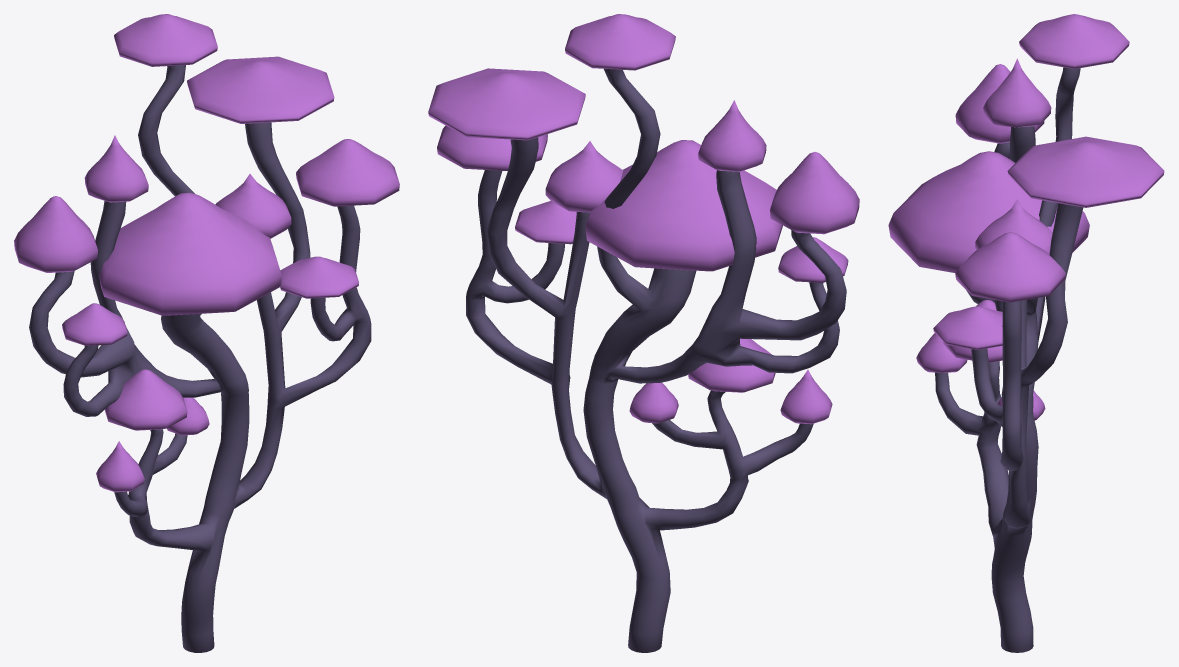
File: Hongos.fbx
The picture shows the model from 3 angles, left to right: view 1: azimuth 30°, elevation 25°; view 2: azimuth 150°, elevation 25°; view 3: azimuth 270°, elevation 25°; orthographic projection. The views are drawn at different scales.
Parts seen in each view (by area): view 1: pCylinder10, pCone12, pCone2, pCone4, pCone5, pCone1, pCone9, pCone6, pCone3, pCone8, pCone7, pCone10 (+1 smaller); view 2: pCylinder10, pCone12, pCone2, pCone5, pCone1, pCone8, pCone6, pCone4, pCone9, pCone3, pCone10, pCone11 (+1 smaller); view 3: pCylinder10, pCone12, pCone2, pCone4, pCone1, pCone6, pCone3, pCone5, pCone8, pCone10, pCone9.
Part boxes in pixels (x1,y1,x2,y2): pCylinder10: (29, 65, 371, 652); pCone12: (99, 192, 281, 315); pCone2: (187, 56, 334, 123); pCone4: (296, 139, 399, 206); pCone5: (14, 196, 97, 272); pCone1: (114, 14, 217, 66); pCone9: (104, 369, 187, 430); pCone6: (84, 135, 148, 202); pCone3: (280, 256, 358, 298); pCone8: (215, 174, 291, 238); pCone7: (62, 303, 127, 345); pCone10: (96, 441, 144, 492); pCylinder10: (466, 69, 846, 652); pCone12: (585, 140, 782, 271); pCone2: (428, 68, 585, 140); pCone5: (770, 152, 859, 234); pCone1: (565, 14, 675, 70); pCone8: (545, 141, 623, 212); pCone6: (698, 100, 766, 171); pCone4: (437, 125, 547, 170); pCone9: (688, 338, 775, 392); pCone3: (515, 201, 576, 244); pCone10: (780, 369, 832, 424); pCone11: (629, 382, 678, 423); pCylinder10: (935, 67, 1083, 652); pCone12: (888, 151, 1089, 272); pCone2: (1007, 136, 1164, 207); pCone4: (955, 232, 1065, 302); pCone1: (1019, 14, 1129, 69); pCone6: (983, 58, 1051, 127); pCone3: (933, 306, 1002, 349); pCone5: (955, 64, 1044, 143); pCone8: (975, 199, 1052, 254); pCone10: (916, 333, 967, 372); pCone9: (943, 300, 1002, 362).
Size of the model in its own units: 7.63 by 11.7 by 4.66.
